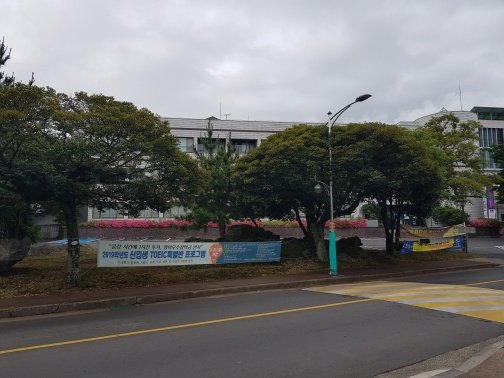Foreign Language Institute: (83, 102, 310, 226)
